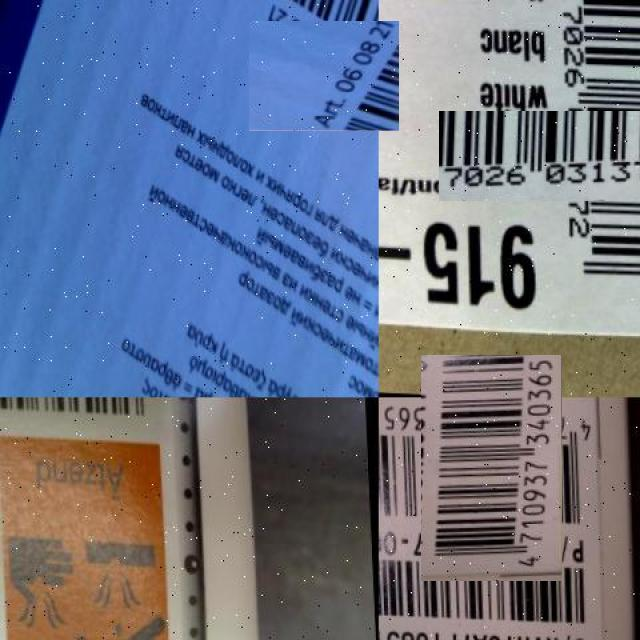Barcode: (400, 376, 584, 560), (494, 56, 640, 257), (259, 10, 389, 141)
